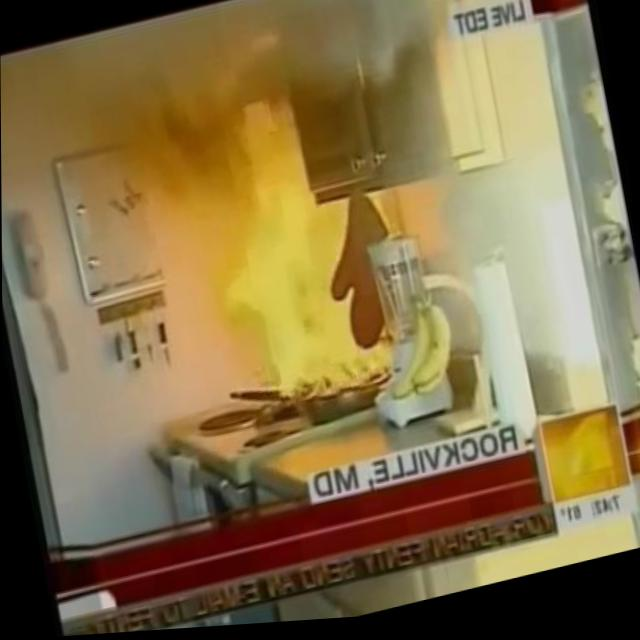fire: (185, 75, 410, 419)
